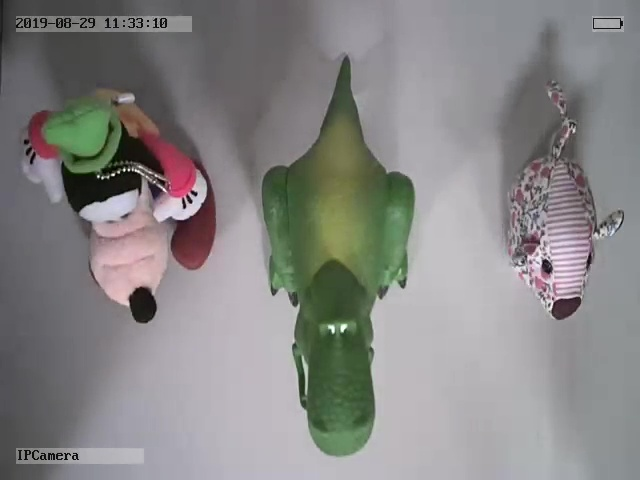goofy: (19, 85, 216, 324)
pig: (505, 78, 624, 320)
rex: (261, 55, 415, 457)
